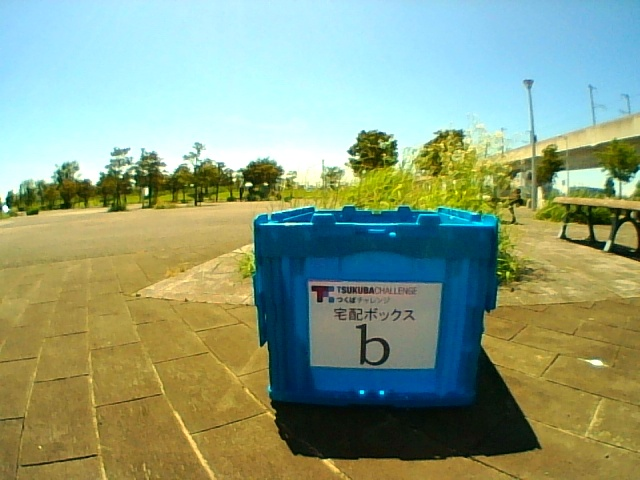blue_box: (275, 209, 469, 403)
tag_b: (309, 281, 433, 367)
